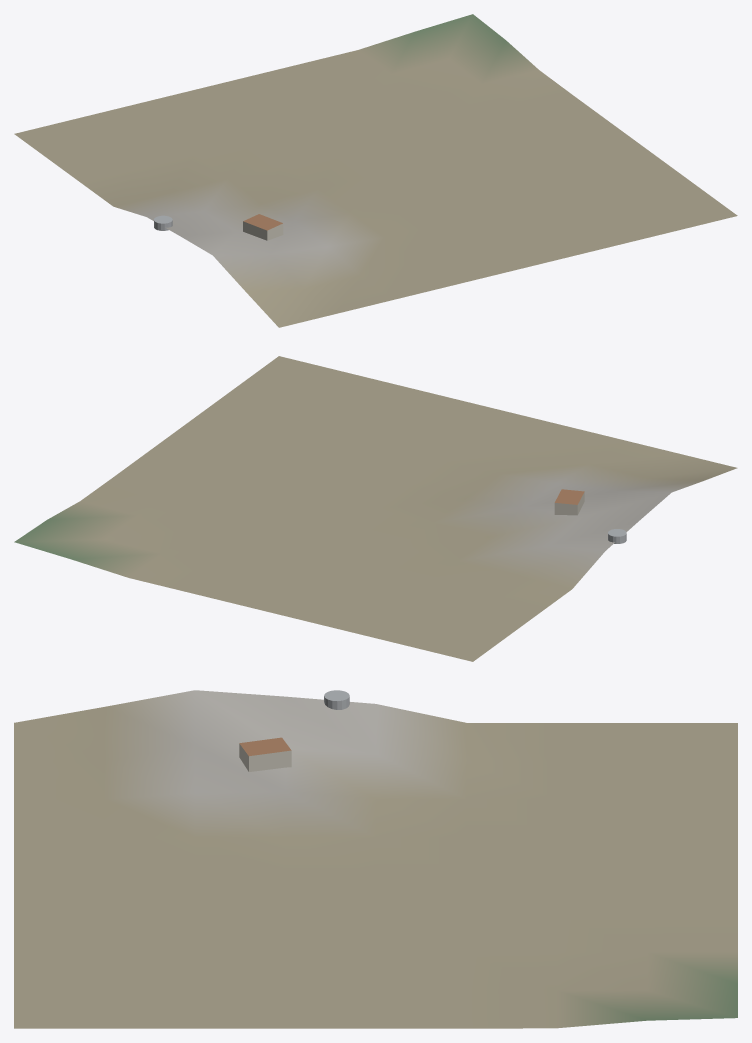
3 renders of one model, top to bottom at view 1: azimuth 30°, elevation 25°; view 2: azimuth 150°, elevation 25°; view 3: azimuth 270°, elevation 25°, orthographic. The views are drawn at different scales.
Visible parts, largest first — view 1: Lo; view 2: Lo; view 3: Lo.
Boxes of the visible parts, x1,y1,x2,y2 form: Lo: (14, 14, 737, 327); Lo: (14, 356, 737, 661); Lo: (14, 690, 737, 1028).
Bounding box in the file's own units: 259 × 12.75 × 256.
